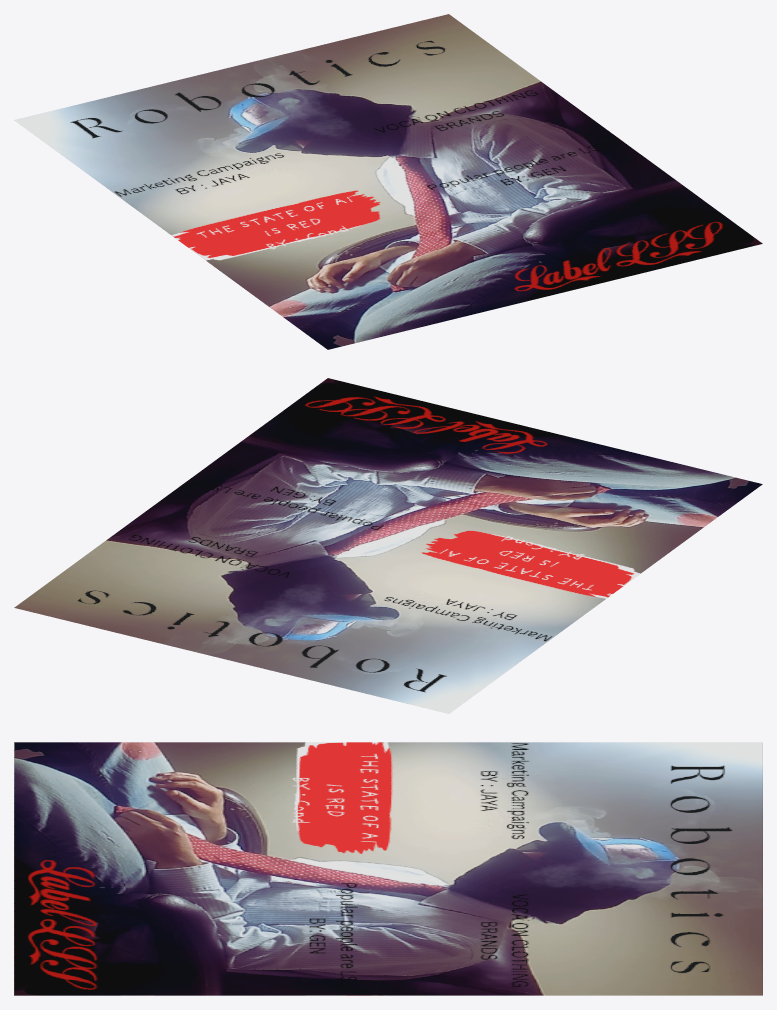
Rendered from robotics magazine.glb.
3 renders of one model, top to bottom at view 1: azimuth 30°, elevation 25°; view 2: azimuth 150°, elevation 25°; view 3: azimuth 270°, elevation 25°, orthographic. The views are drawn at different scales.
Parts seen in each view (by area): view 1: Plane; view 2: Plane; view 3: Plane.
Part boxes in pixels (x1,y1,x2,y2): Plane: [14, 14, 762, 349]; Plane: [14, 378, 762, 713]; Plane: [14, 742, 762, 995].
Bounding box in the file's own units: 0.4 × 0 × 0.5.
Materials: 1 (1 with a texture image).
